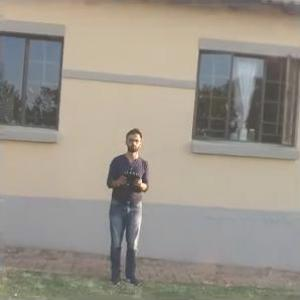follow: (99, 124, 151, 291)
